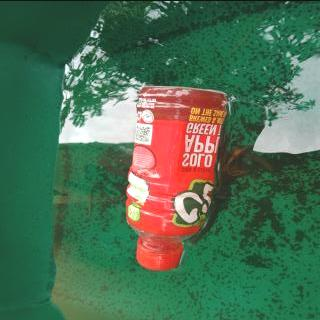bottle: (123, 84, 229, 272)
